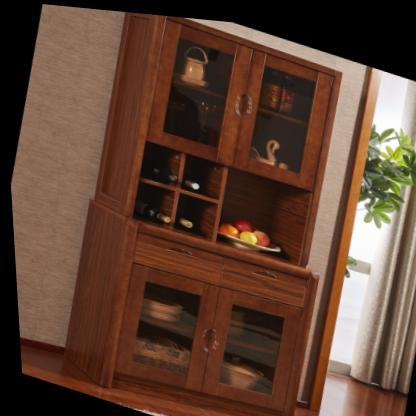Cupboard: (58, 9, 342, 416)
Curtains: (345, 175, 416, 388)
Wooden floor: (16, 345, 248, 416), (288, 367, 403, 416)
